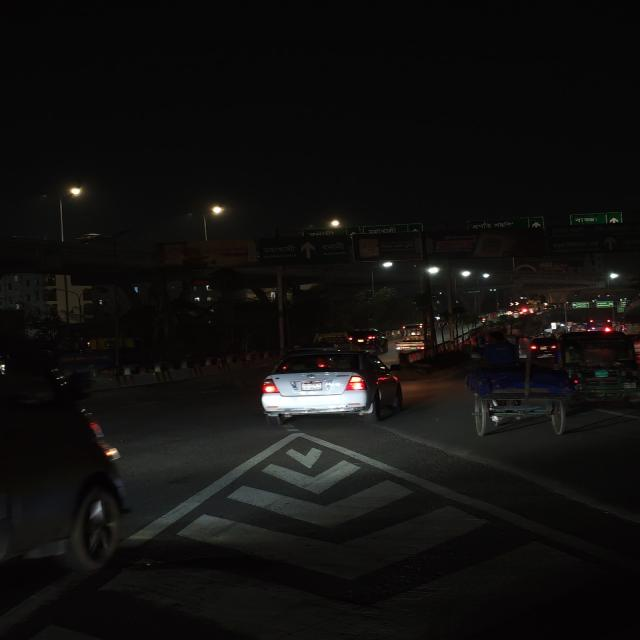car: (252, 346, 409, 426), (348, 328, 386, 346), (528, 334, 558, 354)
cng: (558, 331, 640, 406)
pickup_van: (399, 323, 430, 345)
rickshaw: (454, 338, 574, 442)
